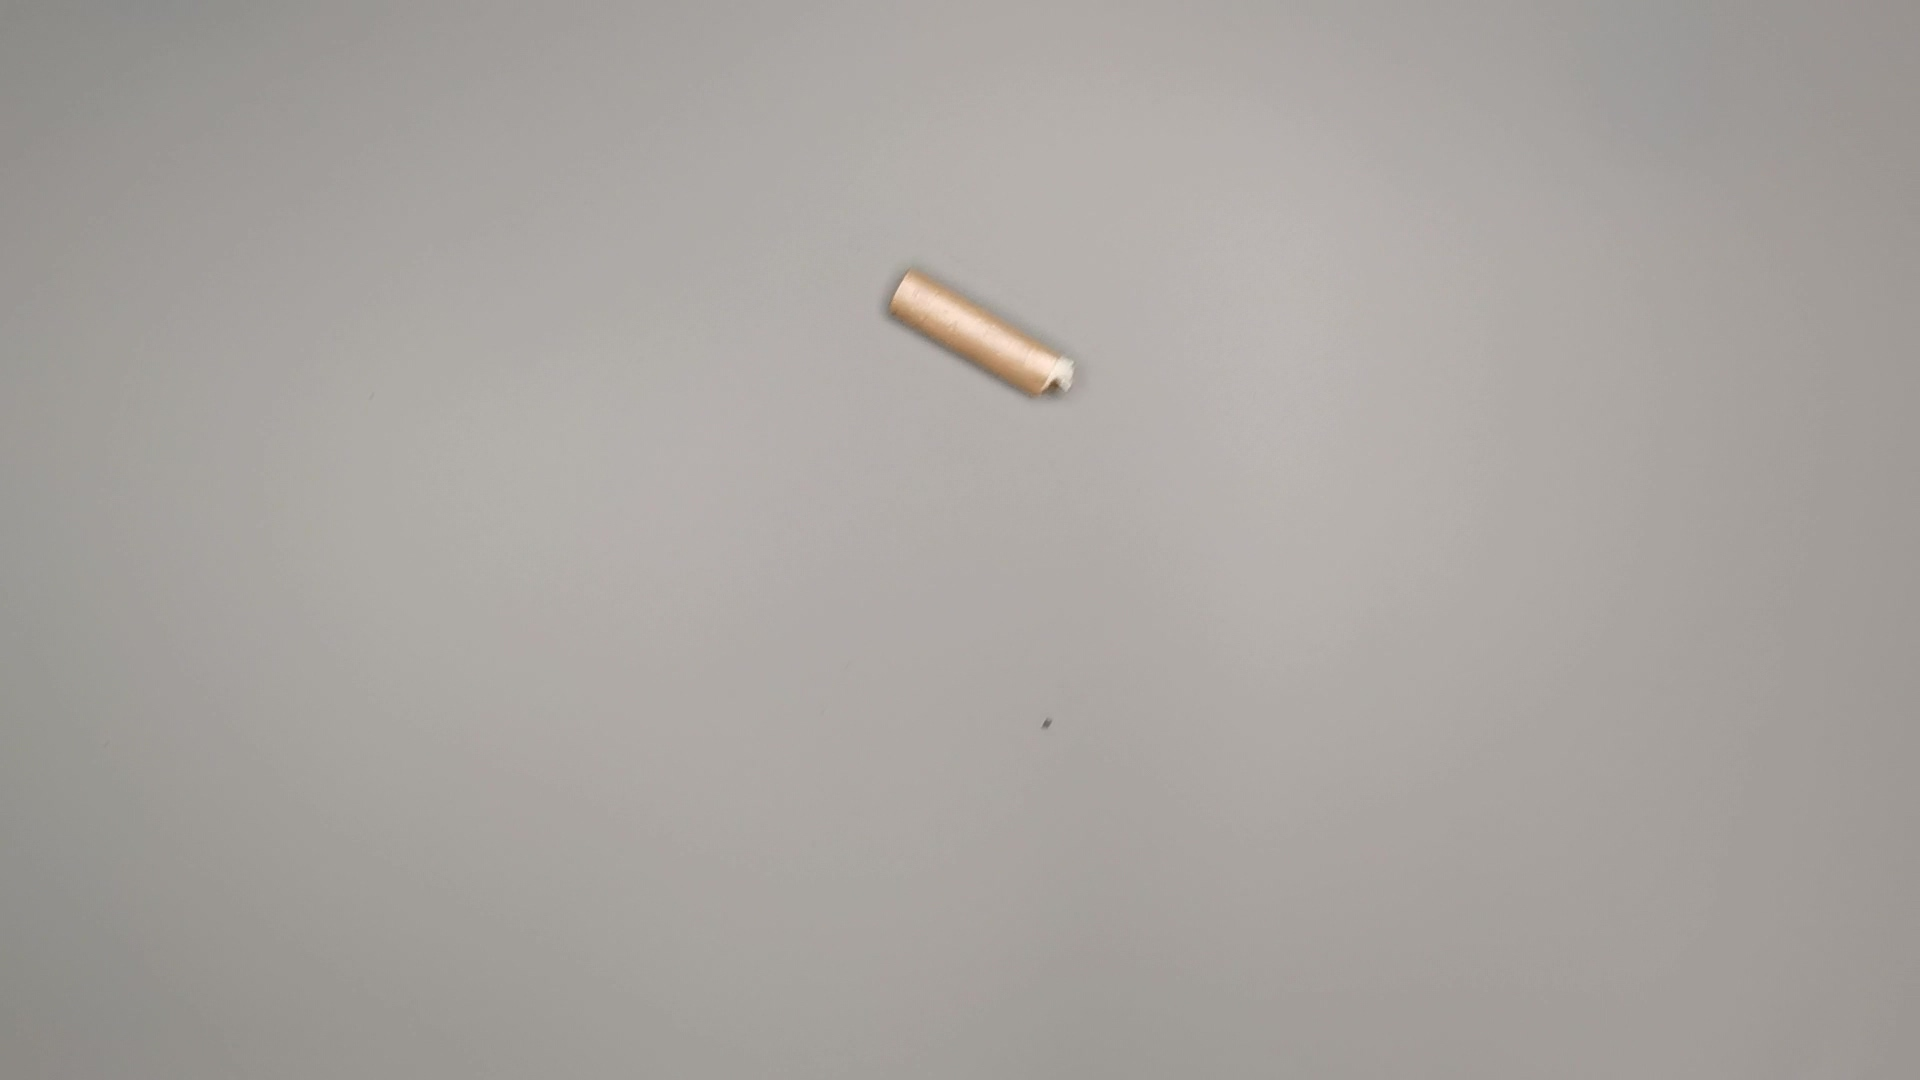cigarette: (872, 261, 1089, 411)
